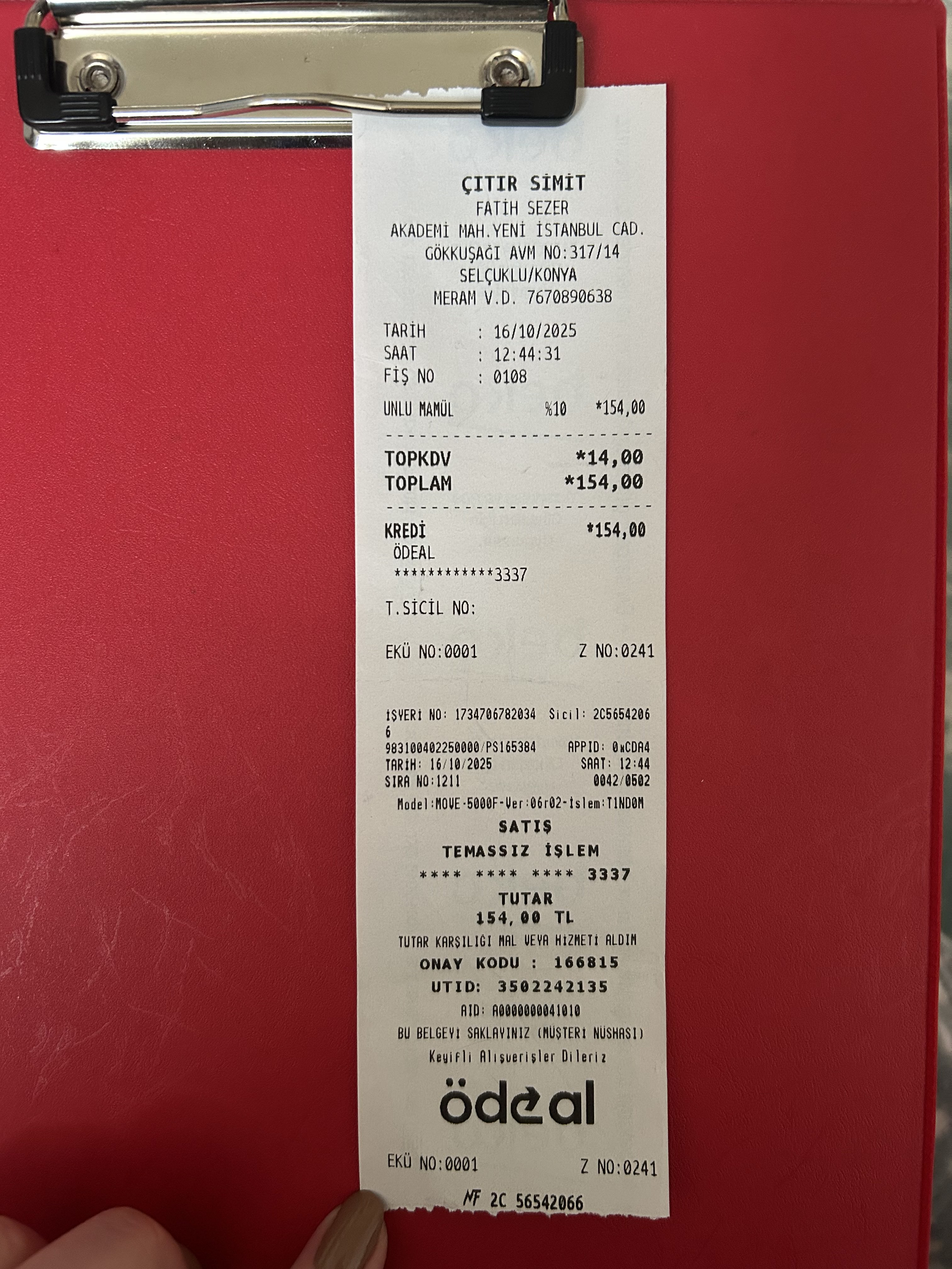date: (491, 320, 581, 344)
price: (574, 468, 651, 497)
workplace: (382, 165, 646, 286)
